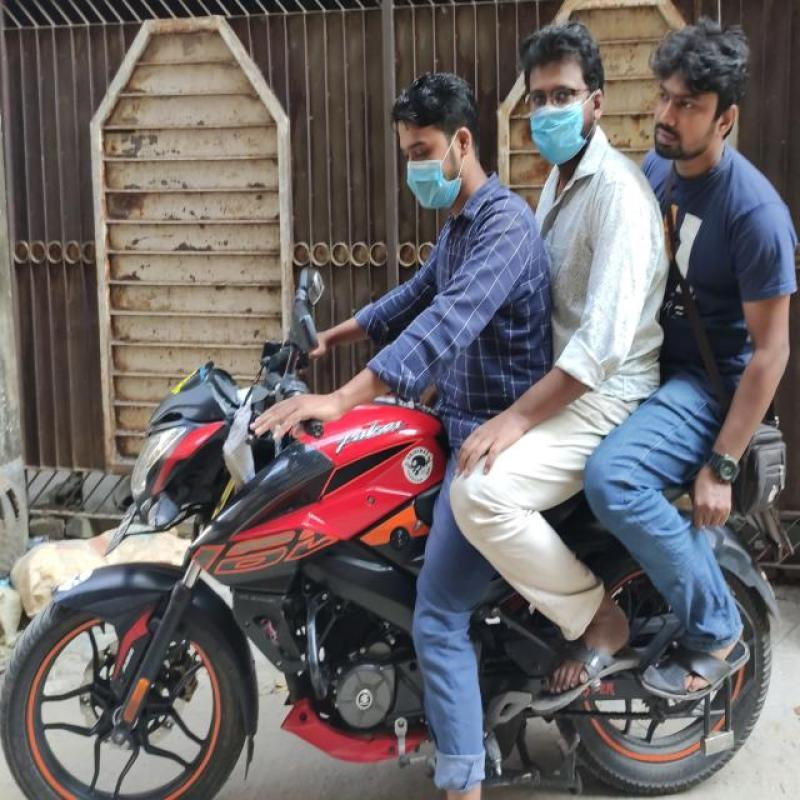nohelmet: (636, 14, 740, 162), (378, 71, 477, 204), (512, 24, 598, 165)
